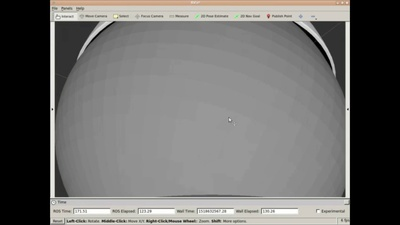mira_robot: (58, 22, 344, 196)
